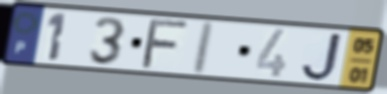1: (46, 12, 68, 63)
3: (87, 16, 129, 67)
4: (254, 27, 289, 80)
F: (138, 18, 193, 71)
I: (189, 19, 218, 77)
J: (299, 31, 346, 83)
